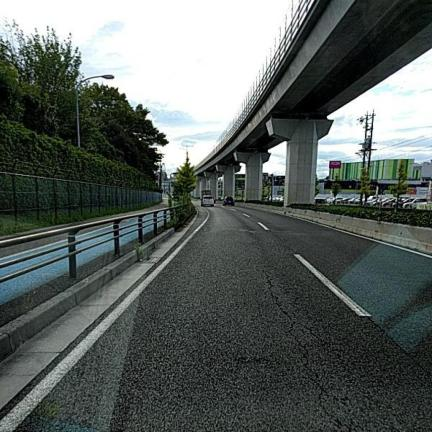Road: (18, 206, 431, 431)
